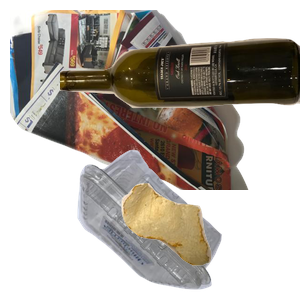glass: (60, 36, 300, 147)
paper: (10, 10, 250, 190)
plastic: (75, 147, 289, 300)
trash: (119, 181, 300, 300)
